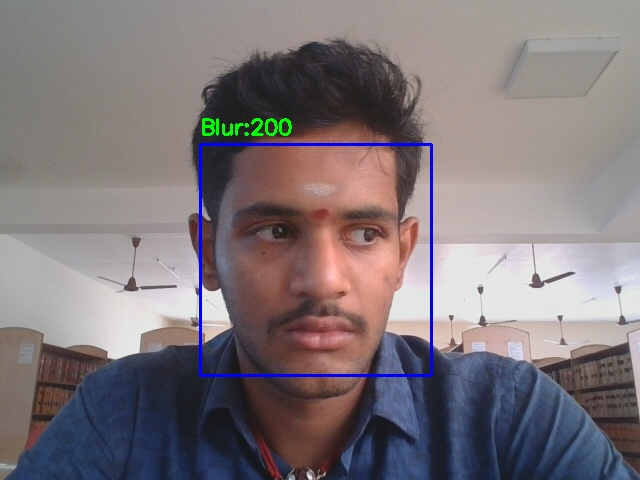real: (200, 144, 431, 375)
